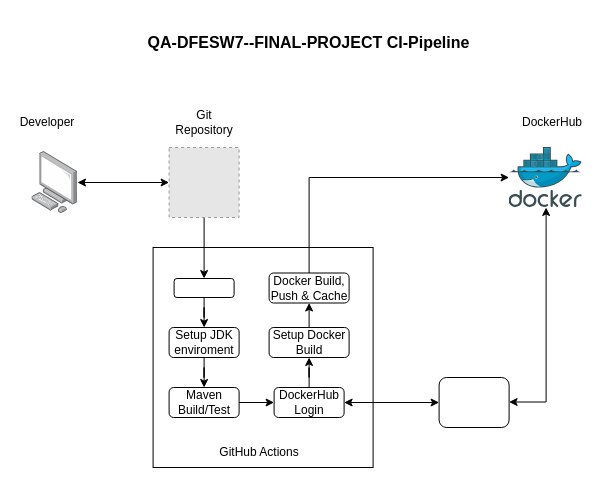
Some shapes in this 599 by 485 pixel diagram are drawn without their labels. Grey dashed boxes stand in for pictures. The shapes that lost their labels are listed below. From the top down, each one's centre as x and y in pixels, then its label:
At (203,288): "Checkout".
At (473,402): "Username and Access Token".
